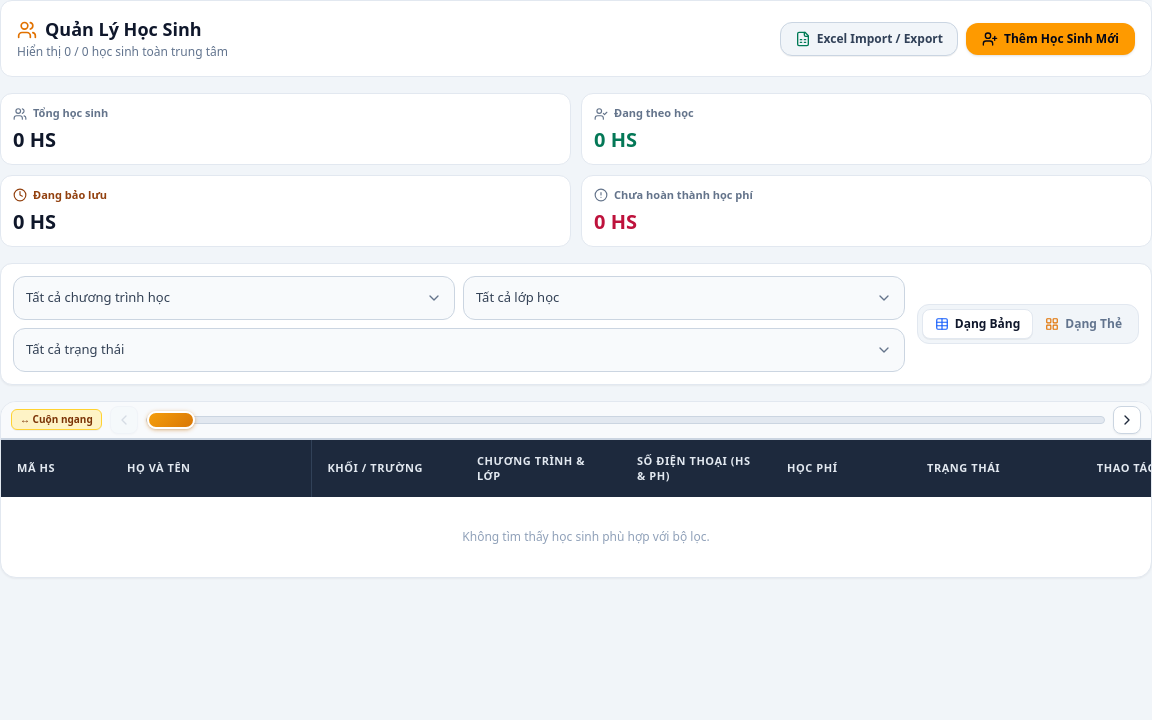
Test: lets a granted staff member open and submit a new student, and denies an ungranted staff member
Click the button "Thêm Học Sinh Mới". click: (1050, 39)
box: [966, 23, 1135, 55]
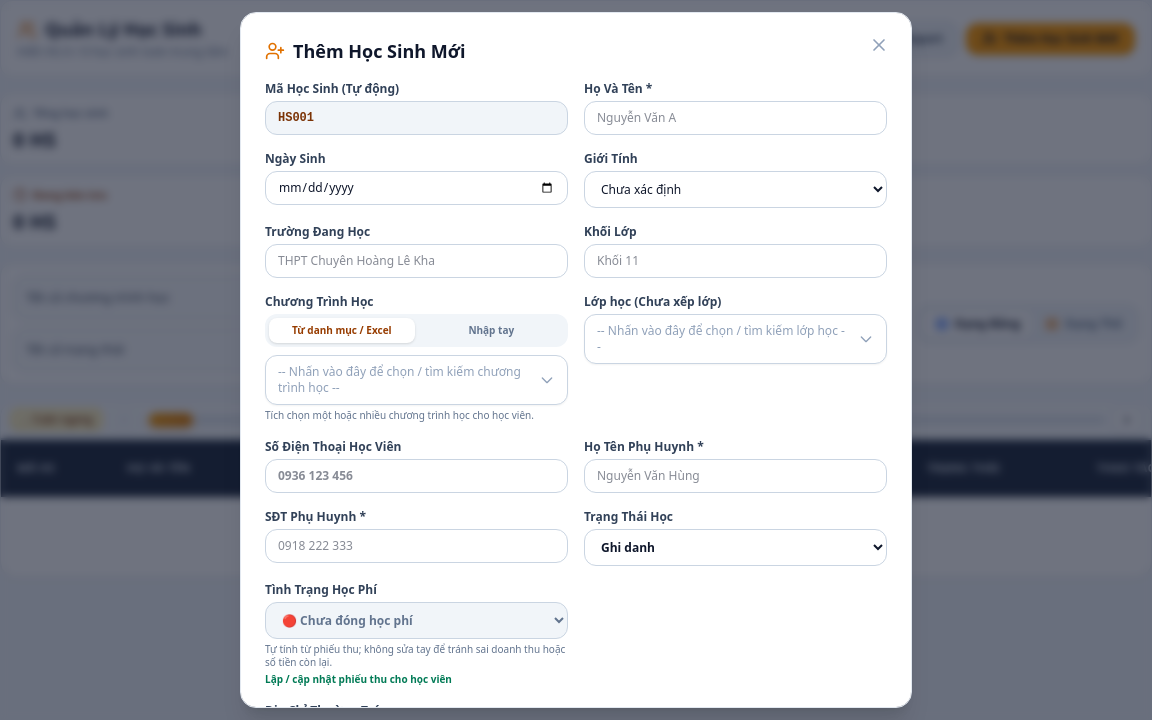
Type "Test new record" into the field with placeholder "Nguyễn Văn A". click: (736, 118)
box: [584, 101, 887, 135]
(page scrolled)
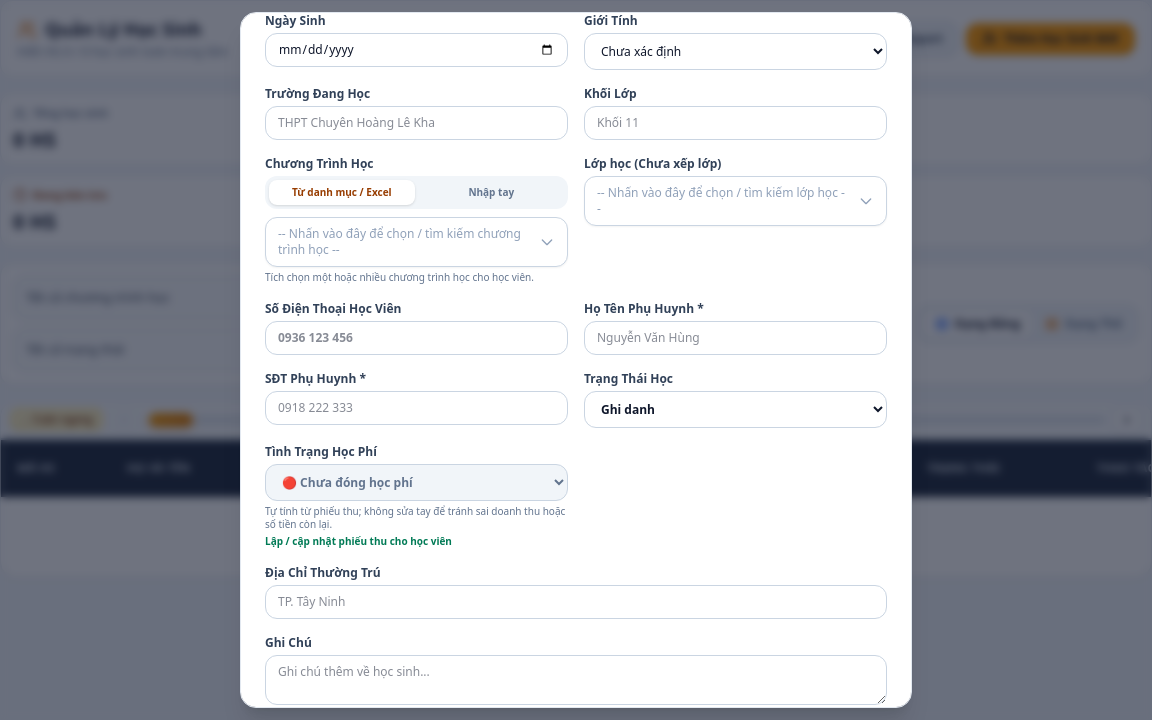
Submit the form
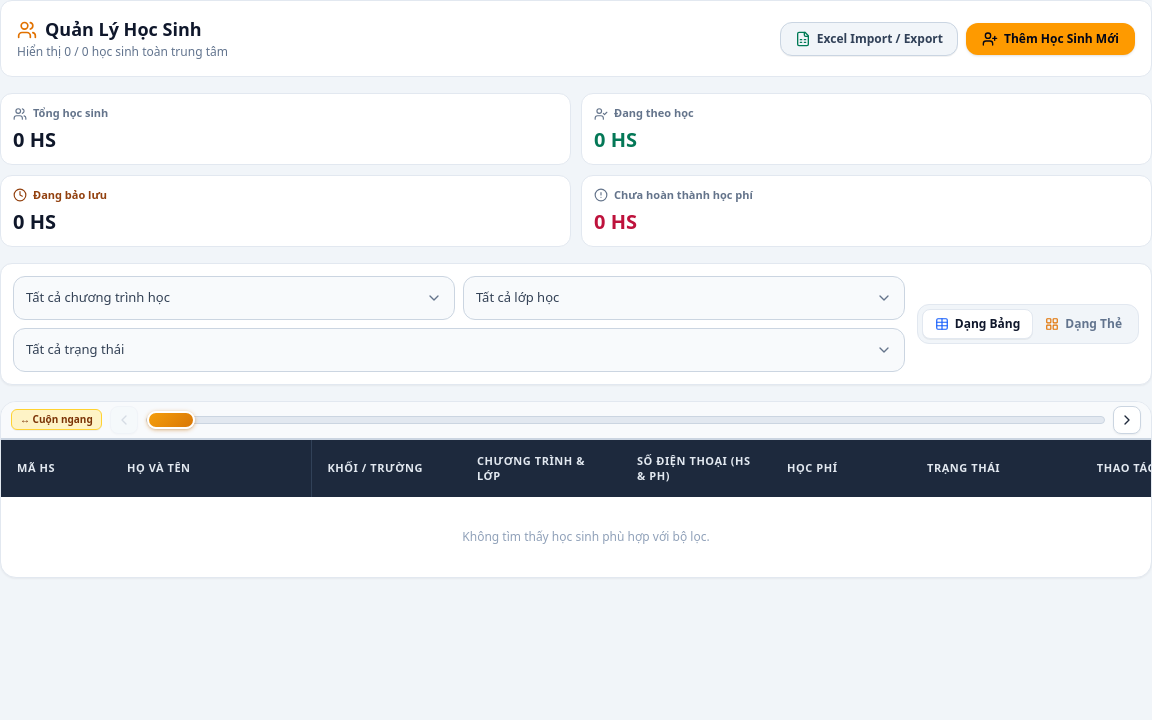
Expected: the dialog is gone
